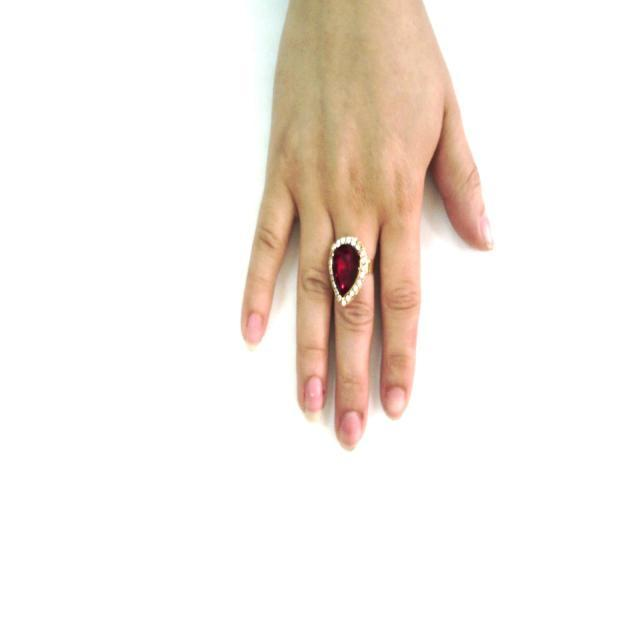Fingernail: (305, 377, 323, 422), (340, 412, 361, 448), (384, 388, 404, 416), (246, 315, 263, 345), (481, 217, 493, 247)
